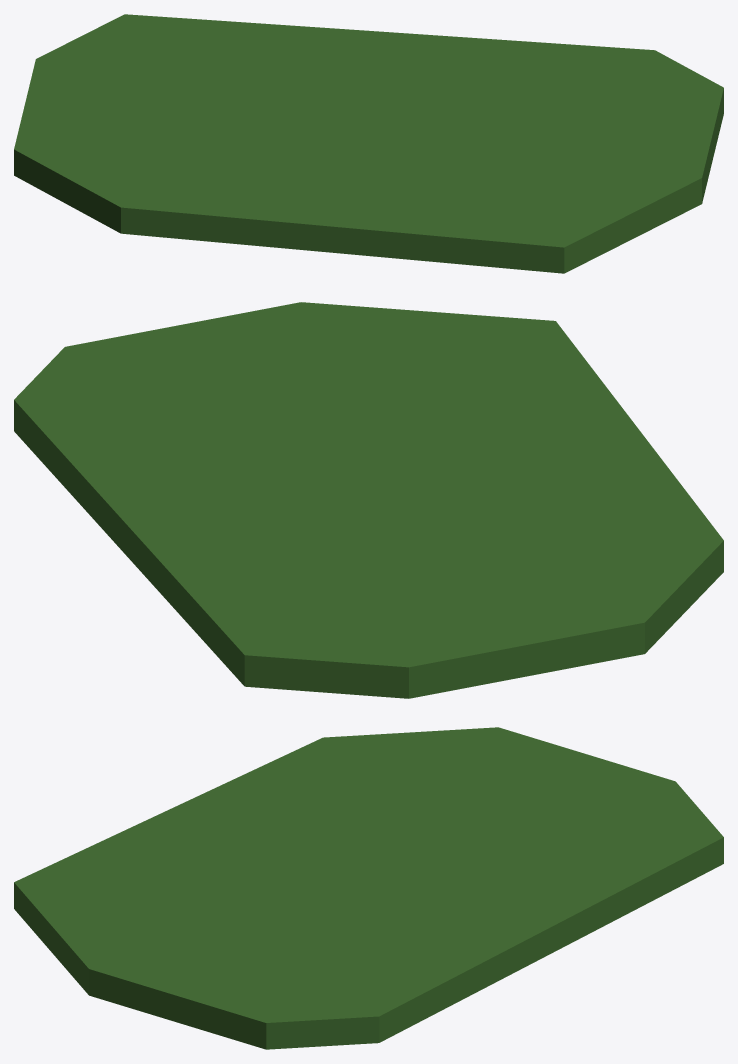
File: flat stone.fbx
The picture shows the model from 3 angles, top to bottom: view 1: azimuth 30°, elevation 25°; view 2: azimuth 150°, elevation 25°; view 3: azimuth 270°, elevation 25°; orthographic projection. The views are drawn at different scales.
Visible parts, largest first — view 1: Cylinder.019; view 2: Cylinder.019; view 3: Cylinder.019.
Boxes of the visible parts, x1=… form: Cylinder.019: x1=14, y1=14, x2=723, y2=273; Cylinder.019: x1=14, y1=302, x2=723, y2=698; Cylinder.019: x1=14, y1=727, x2=723, y2=1049.
Bounding box in the file's own units: 765 × 32.09 × 776.
